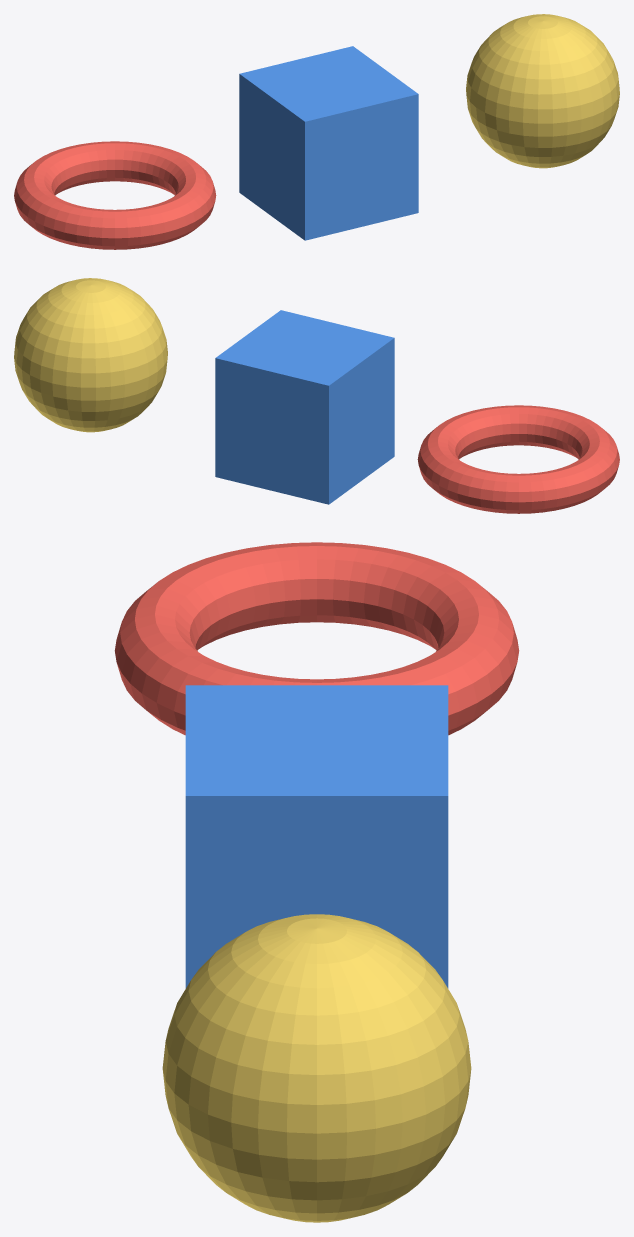
The model's file is live_scene.glb.
3 renders of one model, top to bottom at view 1: azimuth 30°, elevation 25°; view 2: azimuth 150°, elevation 25°; view 3: azimuth 270°, elevation 25°, orthographic. The views are drawn at different scales.
Parts seen in each view (by area): view 1: Cube_Blue, Sphere_Gold, Torus_Red; view 2: Cube_Blue, Sphere_Gold, Torus_Red; view 3: Sphere_Gold, Cube_Blue, Torus_Red.
Boxes of the visible parts, x1,y1,x2,y2 form: Cube_Blue: [239, 46, 418, 240]; Sphere_Gold: [466, 14, 619, 168]; Torus_Red: [14, 141, 216, 249]; Cube_Blue: [215, 310, 394, 504]; Sphere_Gold: [14, 278, 167, 432]; Torus_Red: [417, 405, 619, 513]; Sphere_Gold: [162, 914, 471, 1222]; Cube_Blue: [185, 685, 448, 988]; Torus_Red: [114, 542, 519, 735].
Size of what is drawn, in the model's own units: 8.71 by 2 by 2.62.
